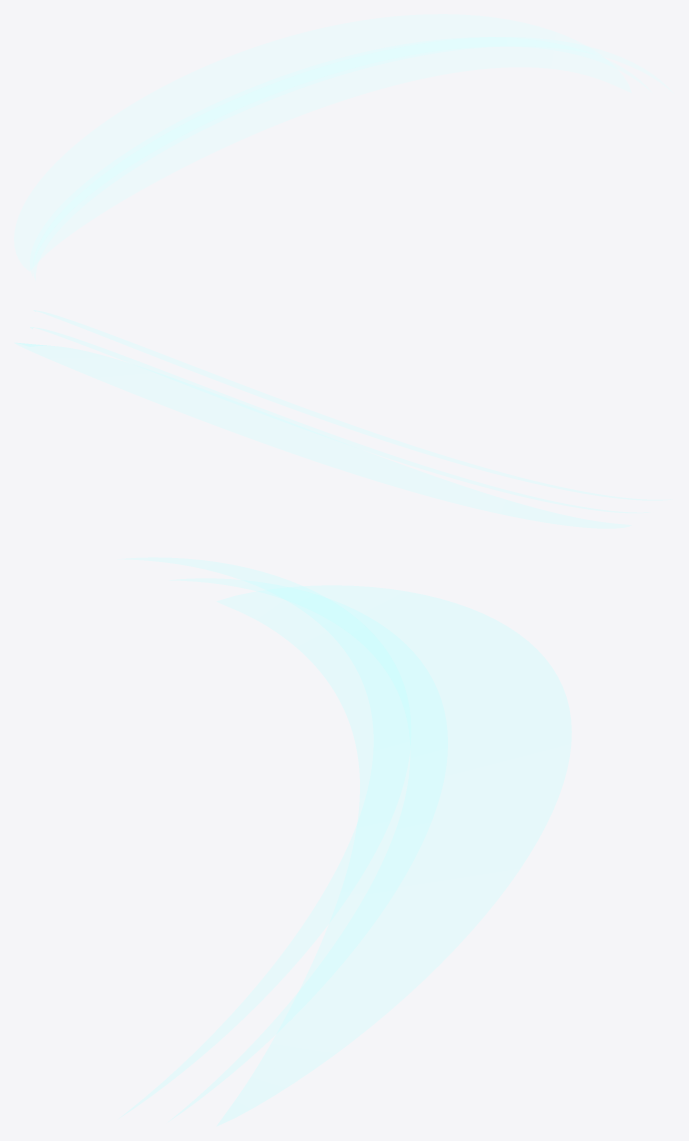
File: qi-sweep-r3.glb
3 views of the same model, one above another, from view 1: azimuth 30°, elevation 25°; view 2: azimuth 150°, elevation 25°; view 3: azimuth 270°, elevation 25° (orthographic). The views are drawn at different scales.
Visible parts, largest first — view 1: qi-sweep-r3; view 2: qi-sweep-r3; view 3: qi-sweep-r3.
Part boxes in pixels (x1,y1,x2,y2): qi-sweep-r3: [14, 14, 672, 279]; qi-sweep-r3: [15, 310, 670, 528]; qi-sweep-r3: [121, 557, 571, 1125].
Bounding box in the file's own units: 2.41 × 0.3322 × 0.7437.
